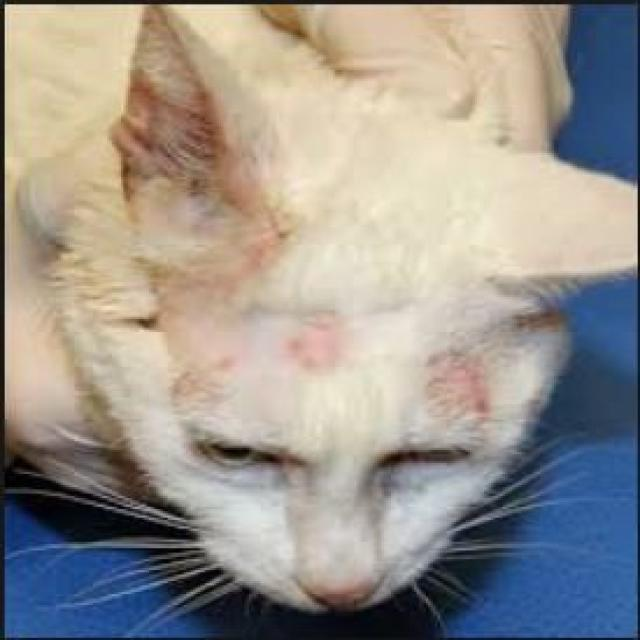Ringworm: (283, 310, 354, 374), (444, 361, 494, 409)
